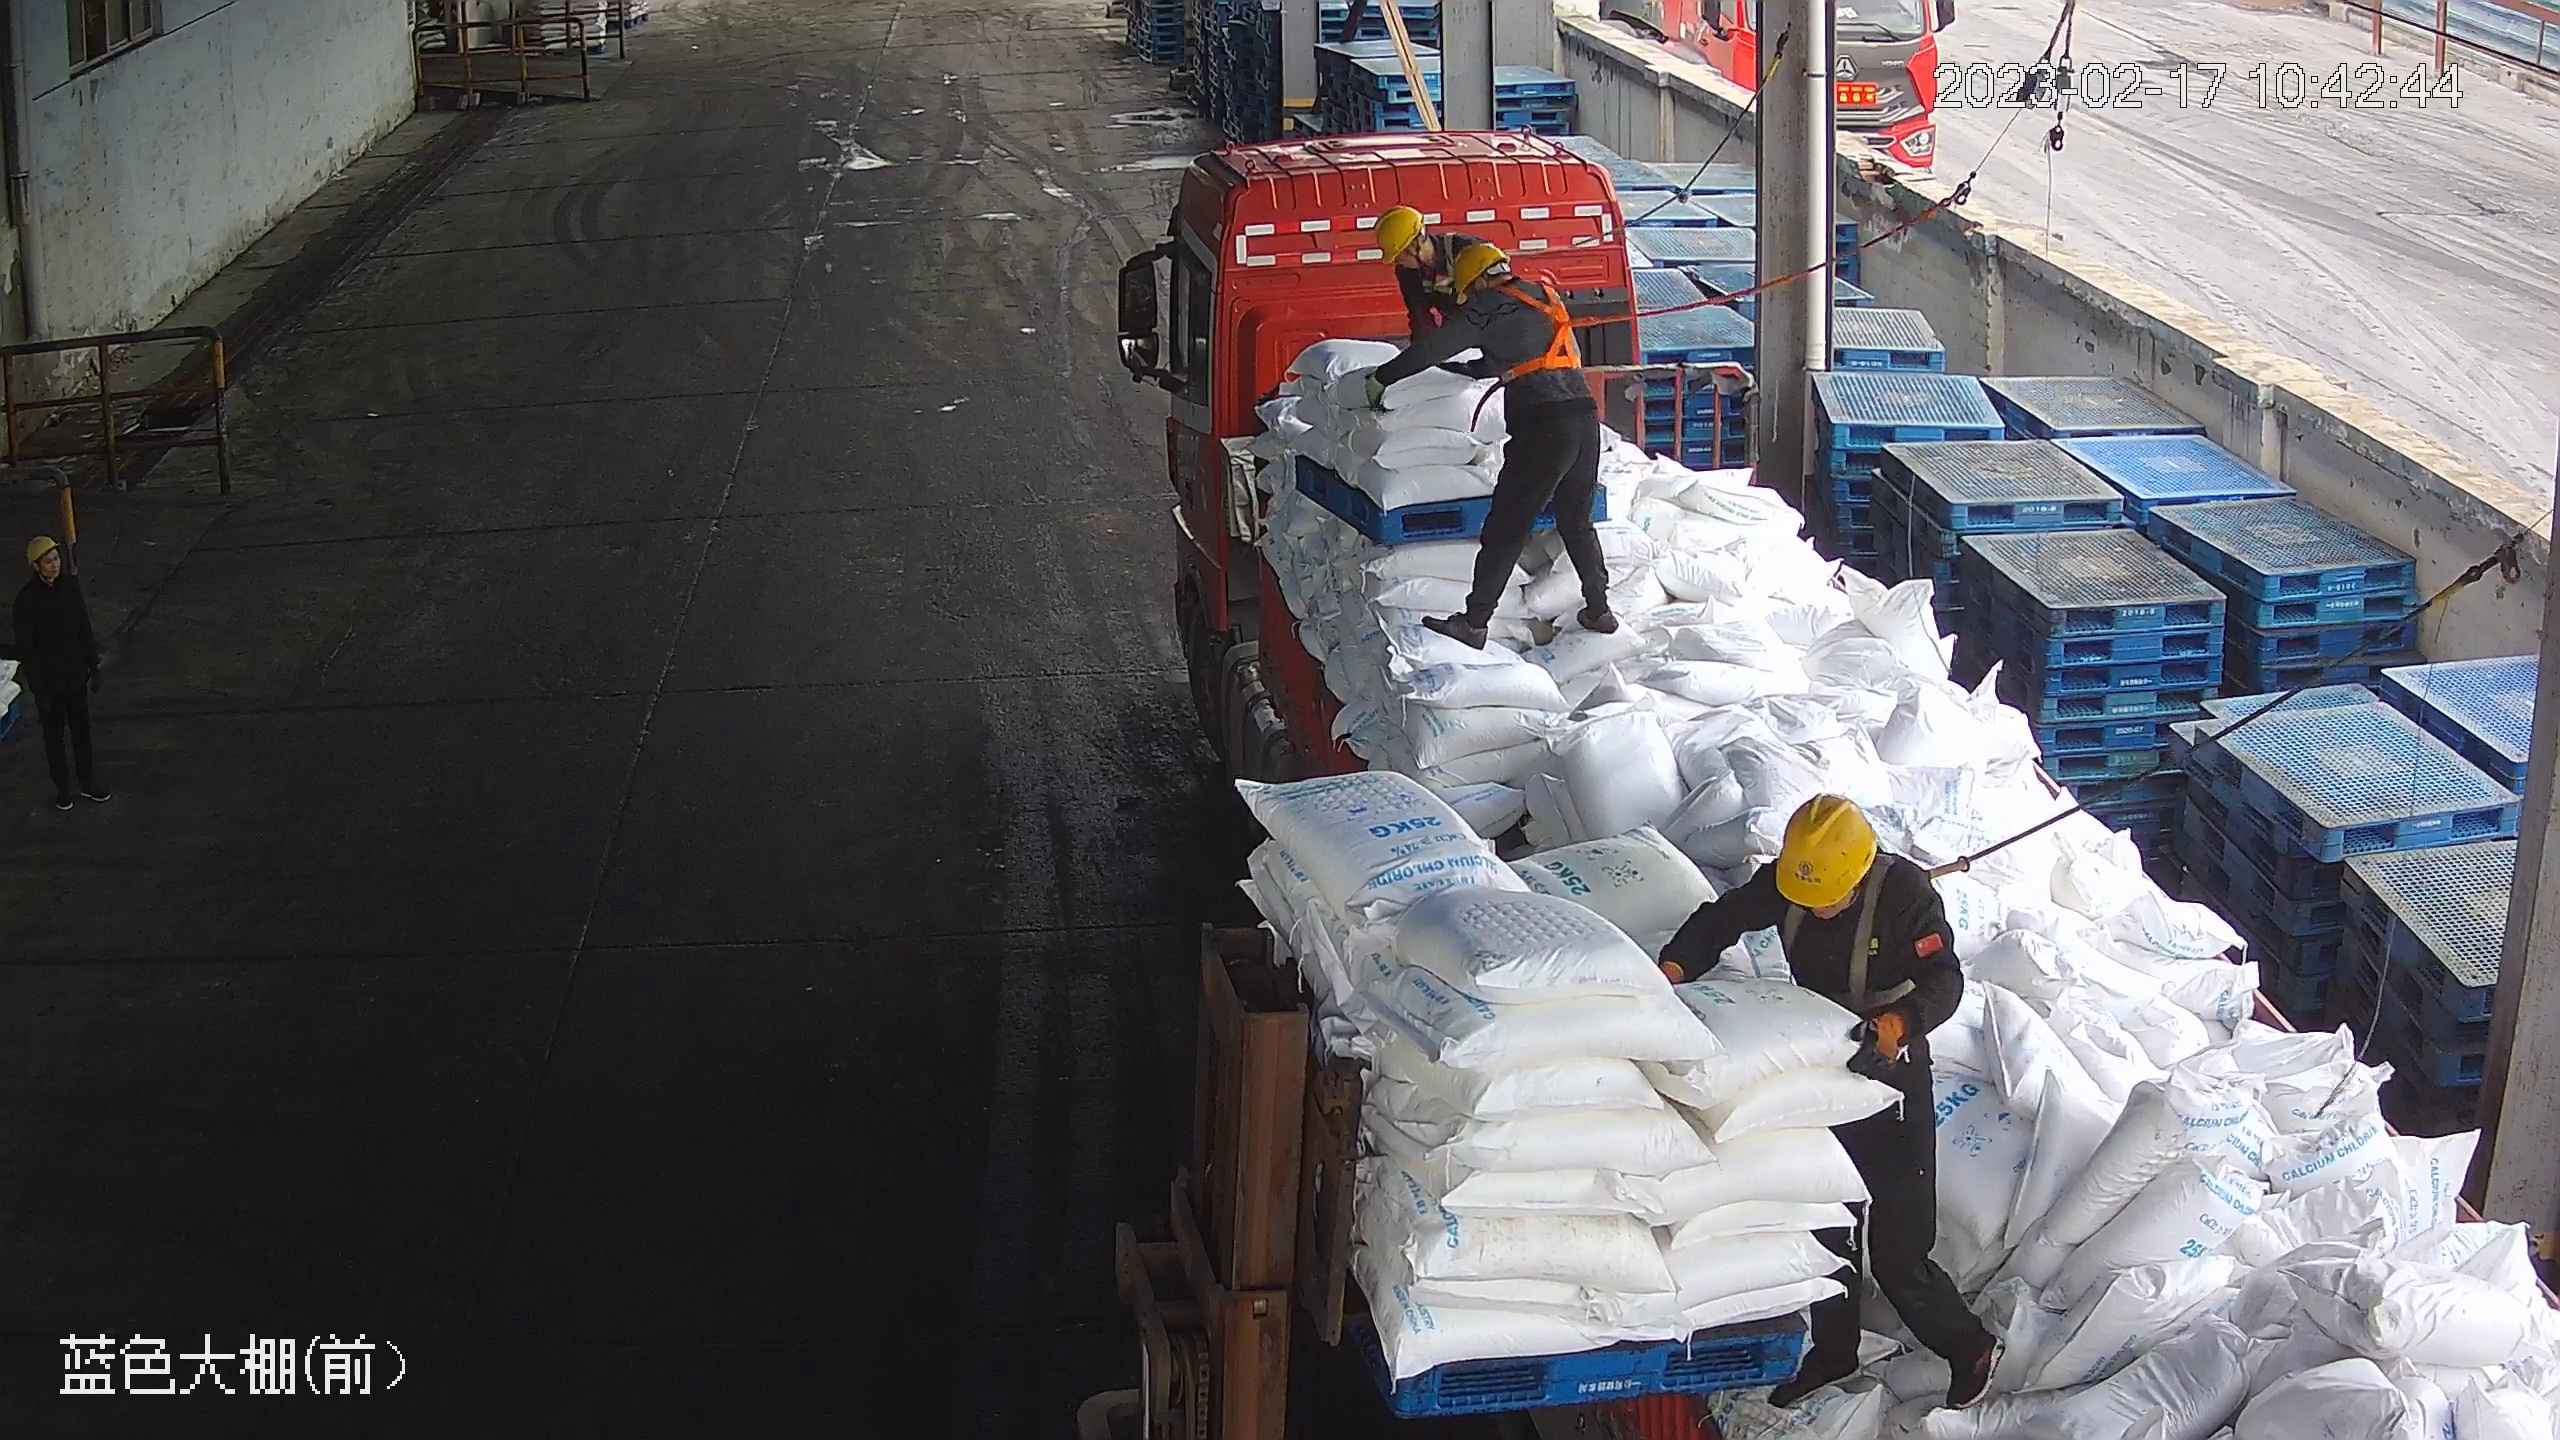belt: (1788, 852, 1921, 990), (1494, 273, 1596, 378), (1398, 236, 1461, 303)
head: (1743, 793, 1948, 971), (1444, 243, 1568, 345), (1370, 203, 1476, 298), (10, 534, 91, 619)
helmet: (1773, 790, 1877, 907), (1370, 203, 1427, 263), (1449, 242, 1509, 299), (24, 535, 61, 566)
people: (1656, 785, 2002, 1412), (1366, 237, 1619, 650), (7, 532, 113, 813)
truck: (1134, 109, 2551, 1440)
